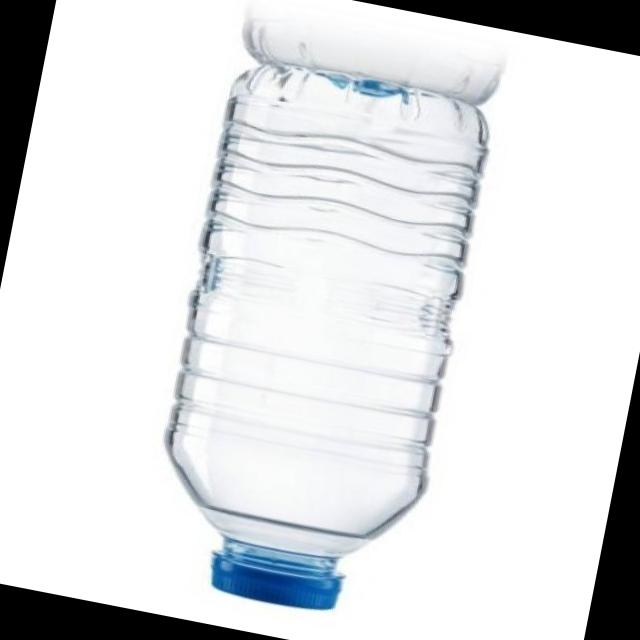plastic_bottle: (138, 50, 504, 628)
